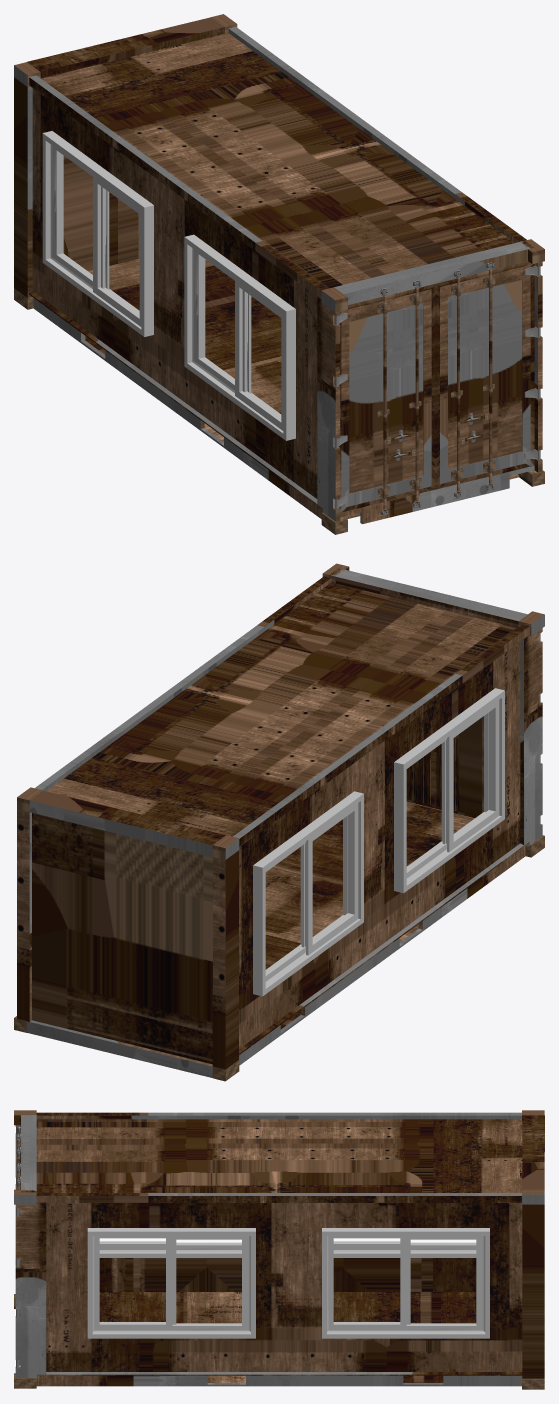
Rendered from Contener_green_4_Windown.fbx.
The picture shows the model from 3 angles, top to bottom: view 1: azimuth 30°, elevation 25°; view 2: azimuth 150°, elevation 25°; view 3: azimuth 270°, elevation 25°; orthographic projection. The views are drawn at different scales.
Visible parts, largest first — view 1: box, windown2, windown1, windown3, windown4, windown9, windown7, windown8, windown10; view 2: box, windown3, windown4, windown10, windown8, windown1, windown2, windown9, windown7; view 3: box, windown5, windown6, windown11, windown13, windown12, windown14, windown3, windown4, windown8, windown10, windown7 (+1 smaller).
Part boxes in pixels (<box>): box: <box>14,14,544,534</box>; windown2: <box>435,261,540,498</box>; windown1: <box>335,281,435,516</box>; windown3: <box>42,131,153,336</box>; windown4: <box>184,234,295,440</box>; windown9: <box>194,249,251,393</box>; windown7: <box>52,145,109,289</box>; windown8: <box>93,175,141,326</box>; windown10: <box>235,279,283,430</box>; box: <box>14,563,544,1081</box>; windown3: <box>253,791,363,996</box>; windown4: <box>394,688,504,893</box>; windown10: <box>442,700,499,852</box>; windown8: <box>301,803,358,955</box>; windown1: <box>436,633,540,824</box>; windown2: <box>406,748,436,808</box>; windown9: <box>406,738,446,878</box>; windown7: <box>265,841,305,981</box>; box: <box>14,1110,544,1389</box>; windown5: <box>87,1228,255,1338</box>; windown6: <box>322,1228,489,1338</box>; windown11: <box>400,1236,483,1330</box>; windown13: <box>166,1236,249,1330</box>; windown12: <box>328,1236,410,1330</box>; windown14: <box>94,1236,176,1330</box>; windown3: <box>333,1250,476,1257</box>; windown4: <box>99,1250,241,1257</box>; windown8: <box>333,1241,400,1249</box>; windown10: <box>99,1241,165,1249</box>; windown7: <box>410,1242,476,1249</box>.
Size of what is drawn, in the model's own units: 235 by 242 by 601.
